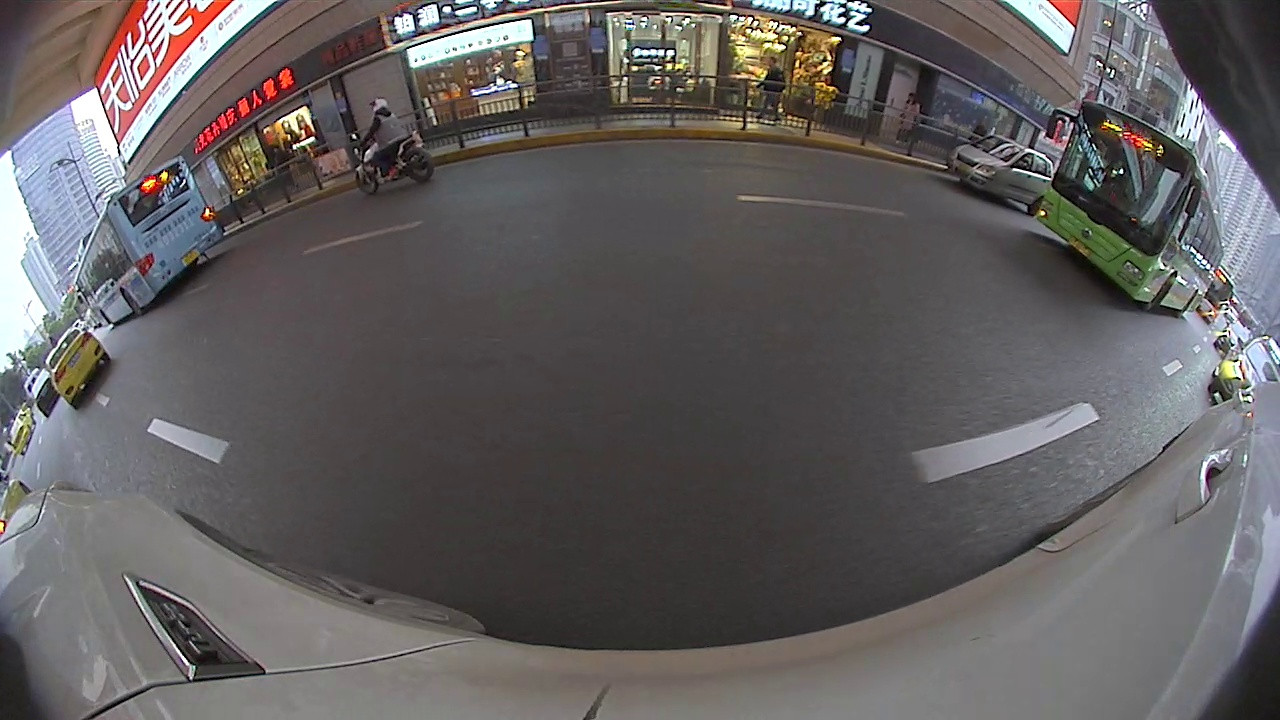bus: (1042, 98, 1227, 318), (77, 151, 220, 330)
car: (946, 131, 1053, 216), (41, 324, 117, 413)
rear: (403, 150, 434, 182)
rider: (350, 93, 438, 198)
